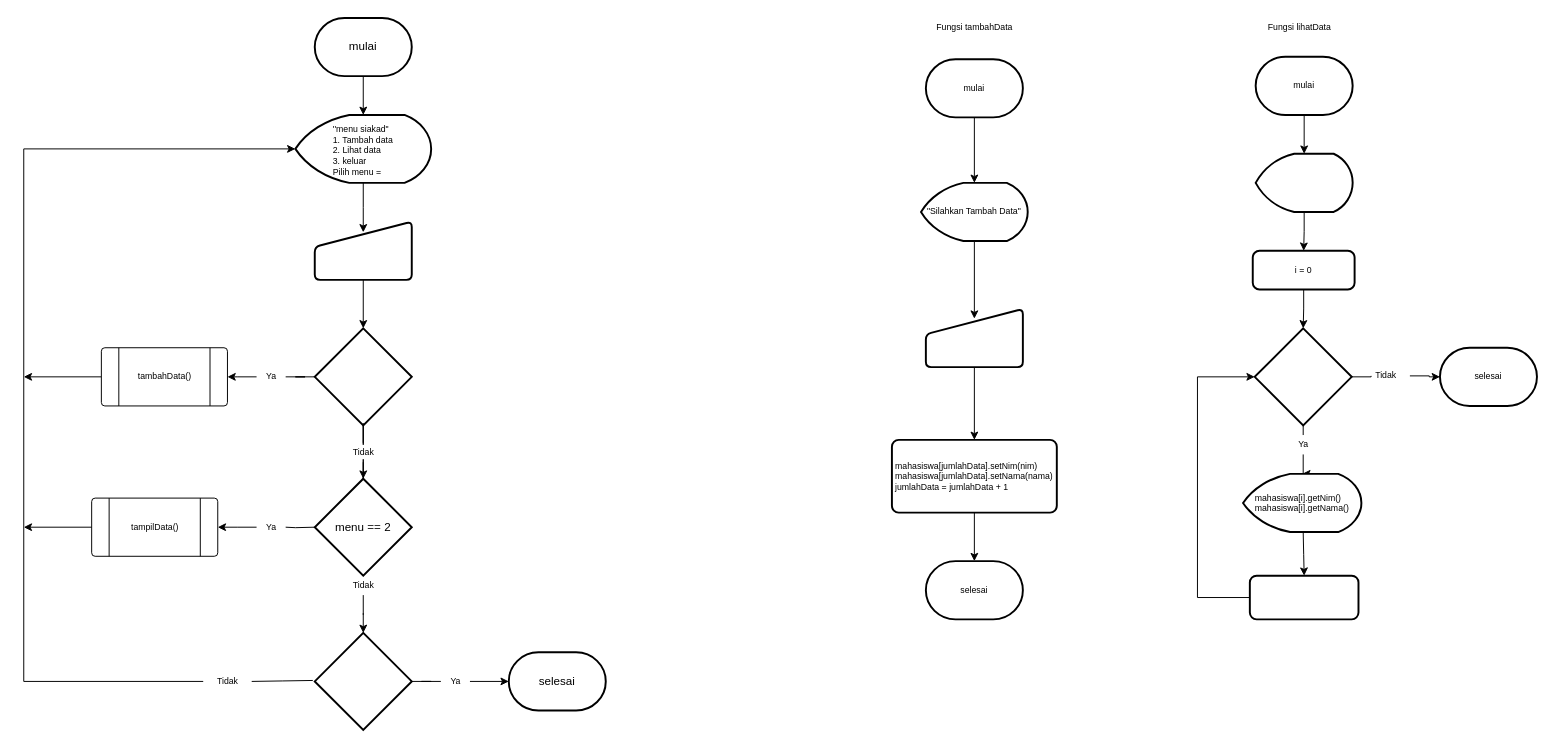
Image size: 1555x747. Some labels were removed from this diagram. The centre of each missing label's shape, as x and y in pixels:
"Berikut Data Anda": (x=1303, y=182)
i = i + 1: (x=1303, y=597)
i<jumlahData: (x=1302, y=376)
Menu: (x=362, y=250)
menu == 1: (x=362, y=376)
menu == 3: (x=362, y=680)
nim, nama: (x=973, y=337)
